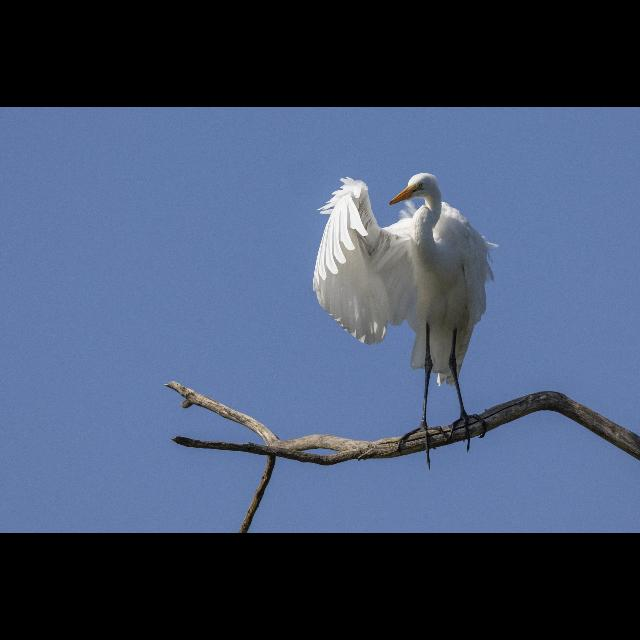egret: (316, 173, 490, 441)
